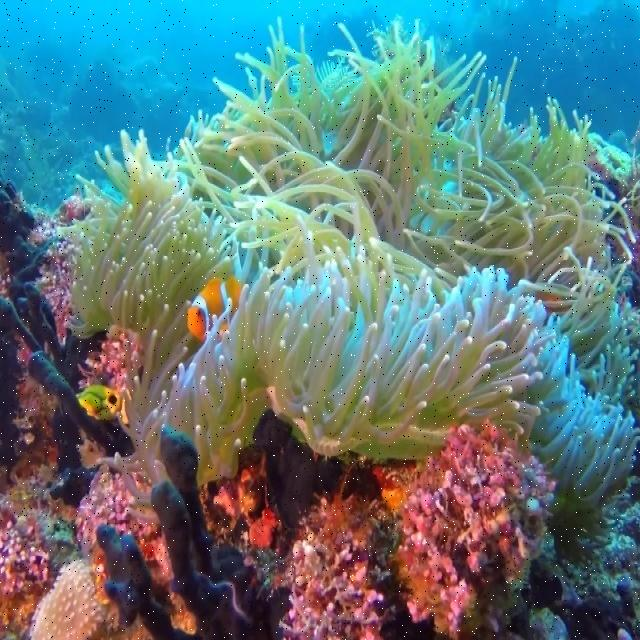fish: (187, 277, 242, 345), (76, 386, 122, 418)
reefs: (62, 15, 639, 578), (96, 424, 295, 639), (27, 558, 111, 639)
